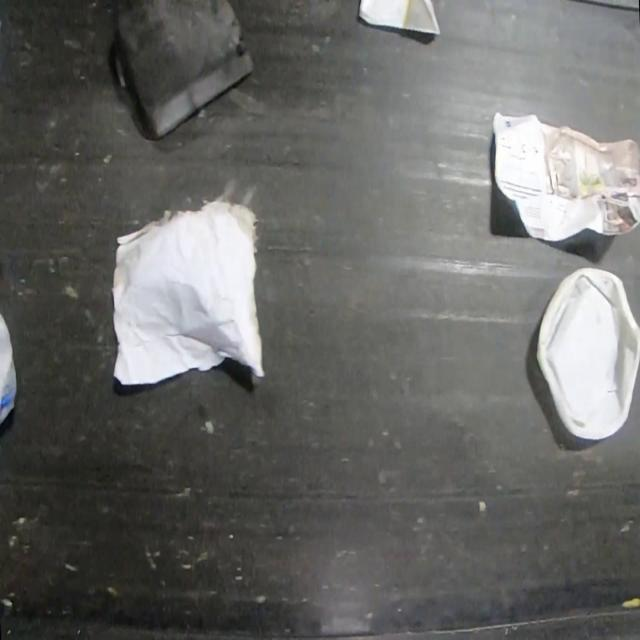rigid_plastic: (112, 0, 256, 140), (536, 265, 640, 439)
